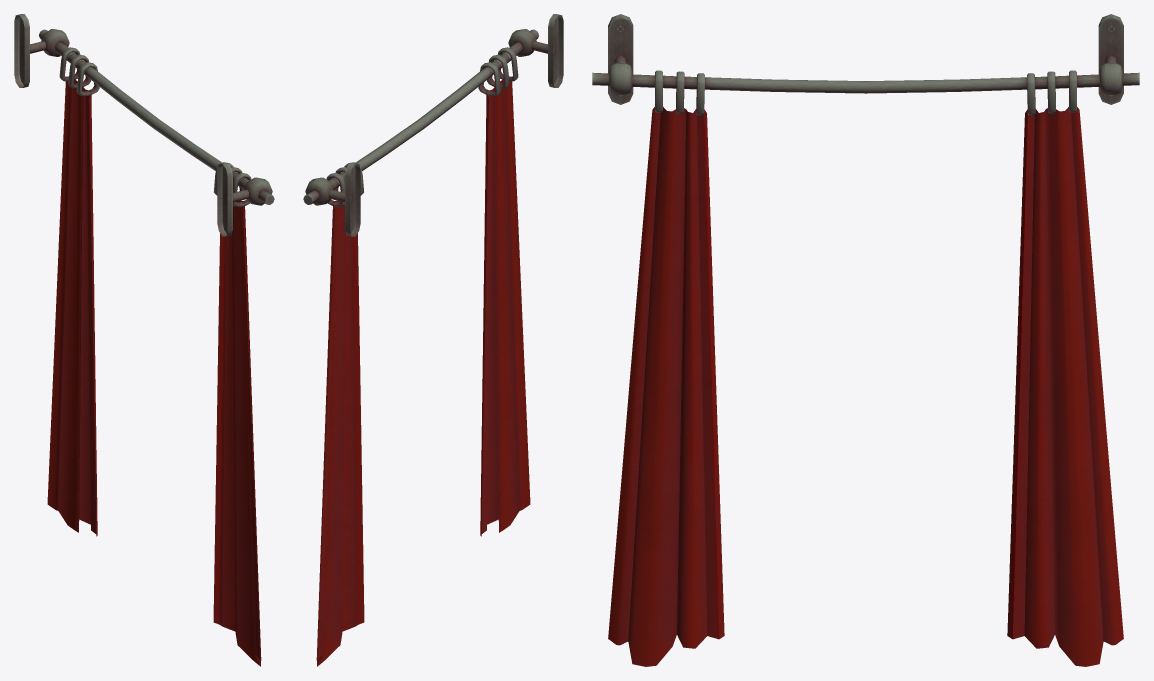
The model's file is curtain_stylized.glb.
The picture shows the model from 3 angles, left to right: view 1: azimuth 30°, elevation 25°; view 2: azimuth 150°, elevation 25°; view 3: azimuth 270°, elevation 25°; orthographic projection. The views are drawn at different scales.
Visible parts, largest first — view 1: Circle; view 2: Circle; view 3: Circle.
Part boxes in pixels (x1,y1,x2,y2): Circle: (14, 14, 274, 666); Circle: (303, 14, 563, 666); Circle: (592, 14, 1139, 666).
Size of the model in its own units: 181 by 1874 by 1483.
1 material, 1 textured.
